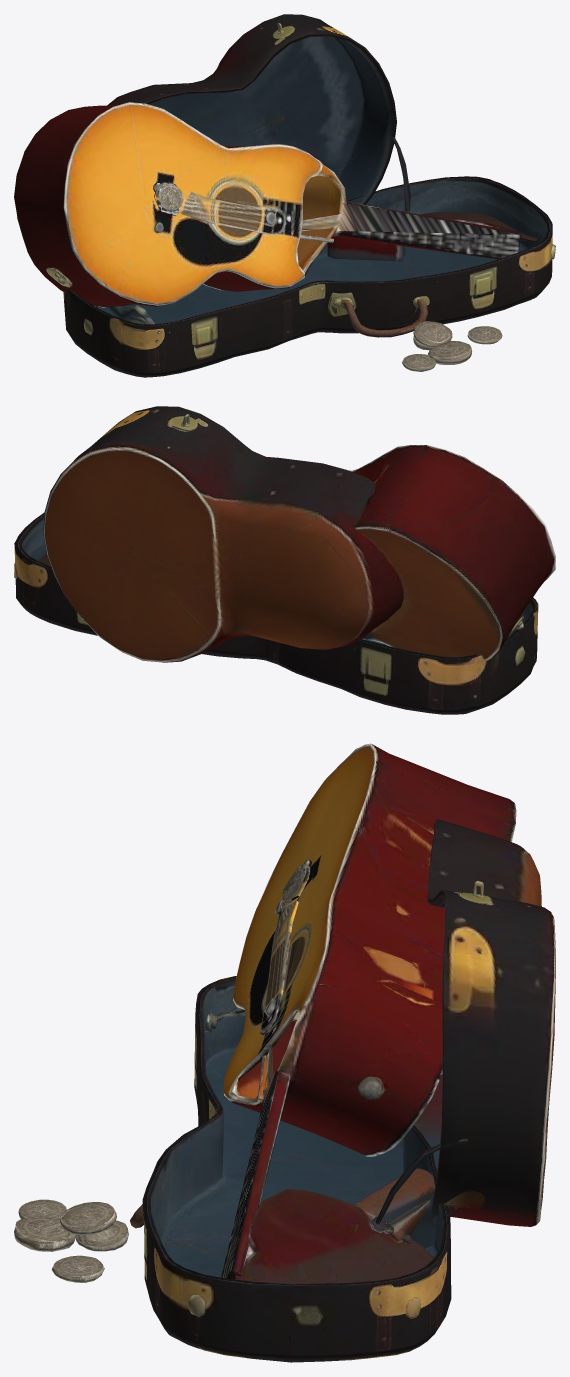
File: guitar-case.glb
3 views of the same model, one above another, from view 1: azimuth 30°, elevation 25°; view 2: azimuth 150°, elevation 25°; view 3: azimuth 270°, elevation 25° (orthographic). The views are drawn at different scales.
Bounding box in the file's own units: 1 × 0.4841 × 0.6877.
1 material, 1 textured.
